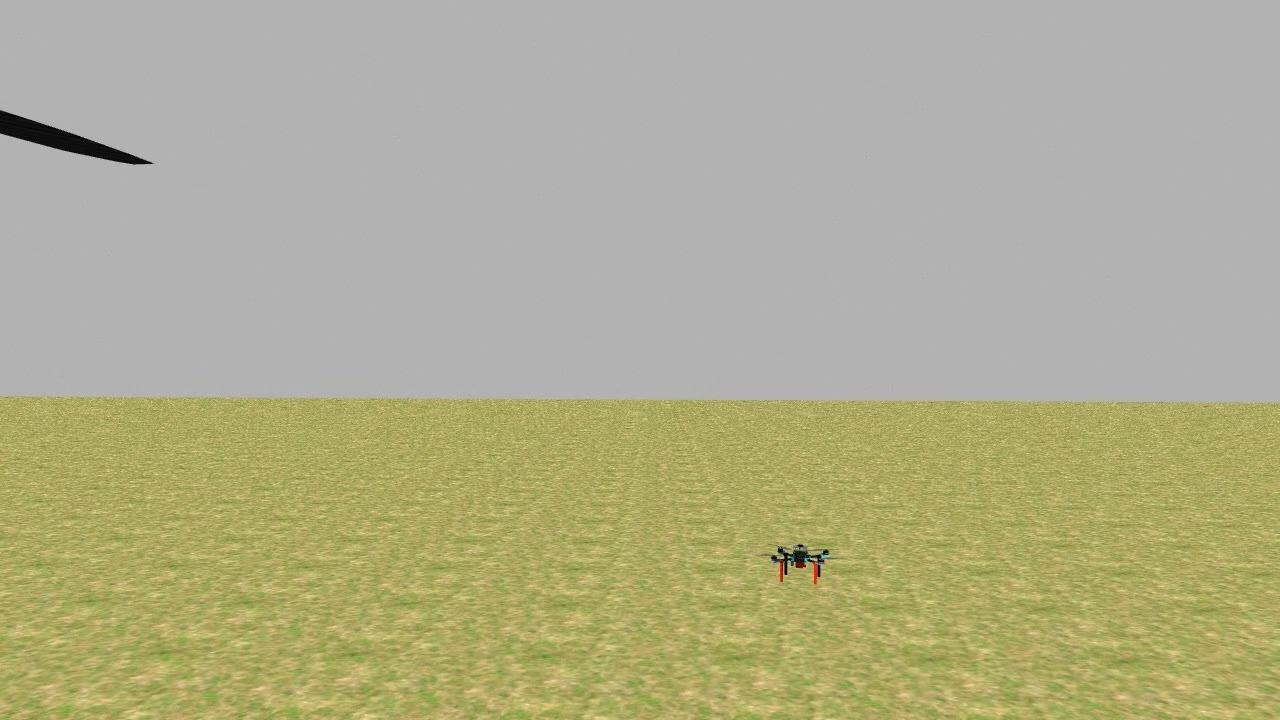UAV: (746, 521, 854, 596)
